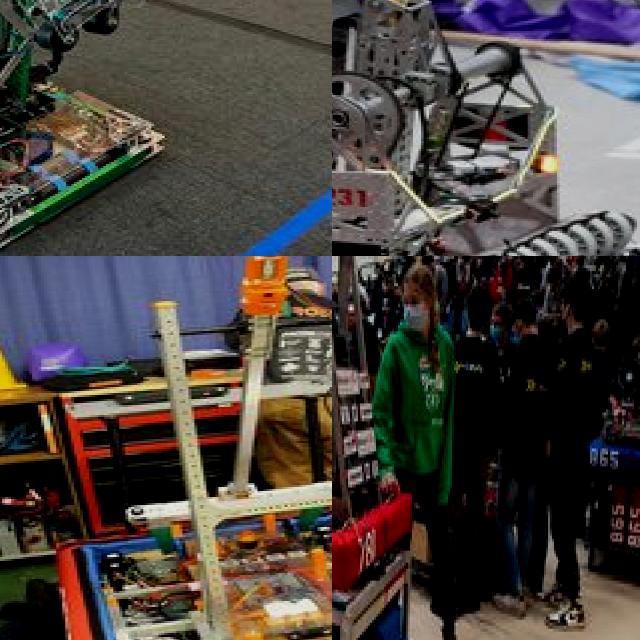FRC-Robots: (0, 256, 332, 640), (332, 0, 640, 256), (0, 0, 164, 256), (332, 256, 428, 599)
